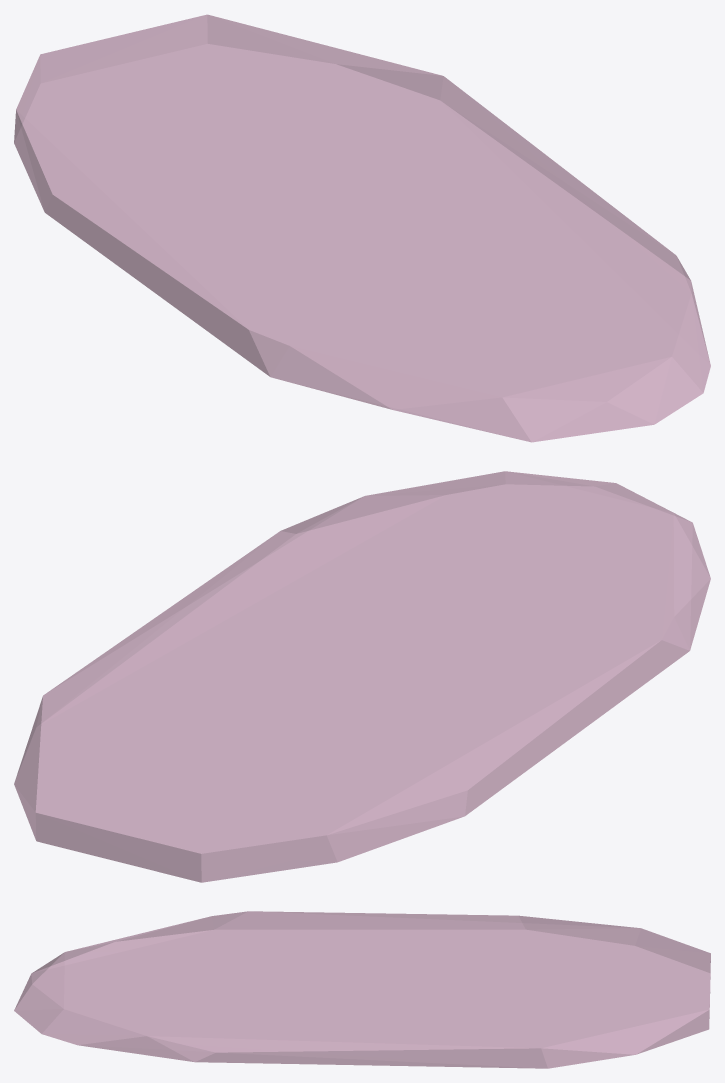
3 renders of one model, top to bottom at view 1: azimuth 30°, elevation 25°; view 2: azimuth 150°, elevation 25°; view 3: azimuth 270°, elevation 25°, orthographic. The views are drawn at different scales.
Parts seen in each view (by area): view 1: Shape_IndexedFaceSet.140_Shape_IndexedFaceSet.9661; view 2: Shape_IndexedFaceSet.140_Shape_IndexedFaceSet.9661; view 3: Shape_IndexedFaceSet.140_Shape_IndexedFaceSet.9661.
Part boxes in pixels (x1,y1,x2,y2): Shape_IndexedFaceSet.140_Shape_IndexedFaceSet.9661: (14,14,710,442); Shape_IndexedFaceSet.140_Shape_IndexedFaceSet.9661: (14,471,710,882); Shape_IndexedFaceSet.140_Shape_IndexedFaceSet.9661: (14,911,710,1068).
Bounding box in the file's own units: 0.3851 × 0.026 × 0.8157.
